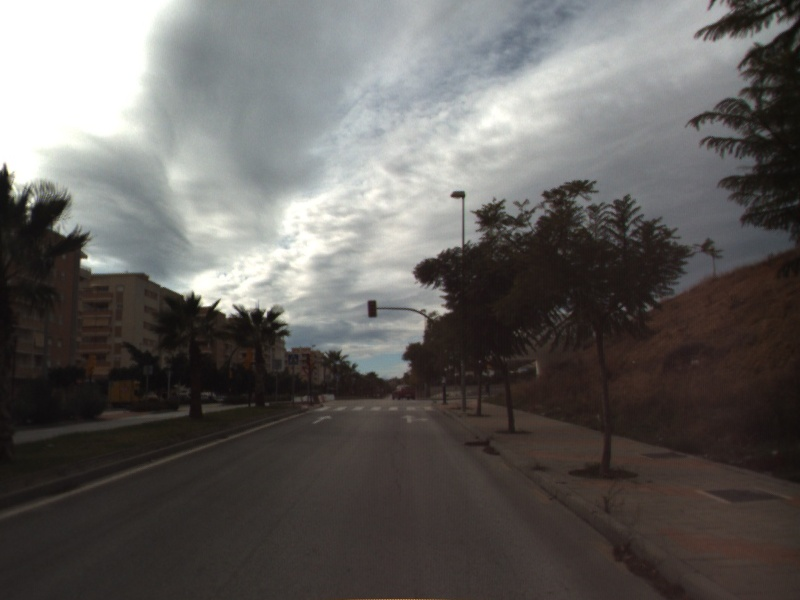STRAIGHT: (310, 413, 335, 426)
STRAIGHT_RIGHT: (399, 412, 430, 425)
